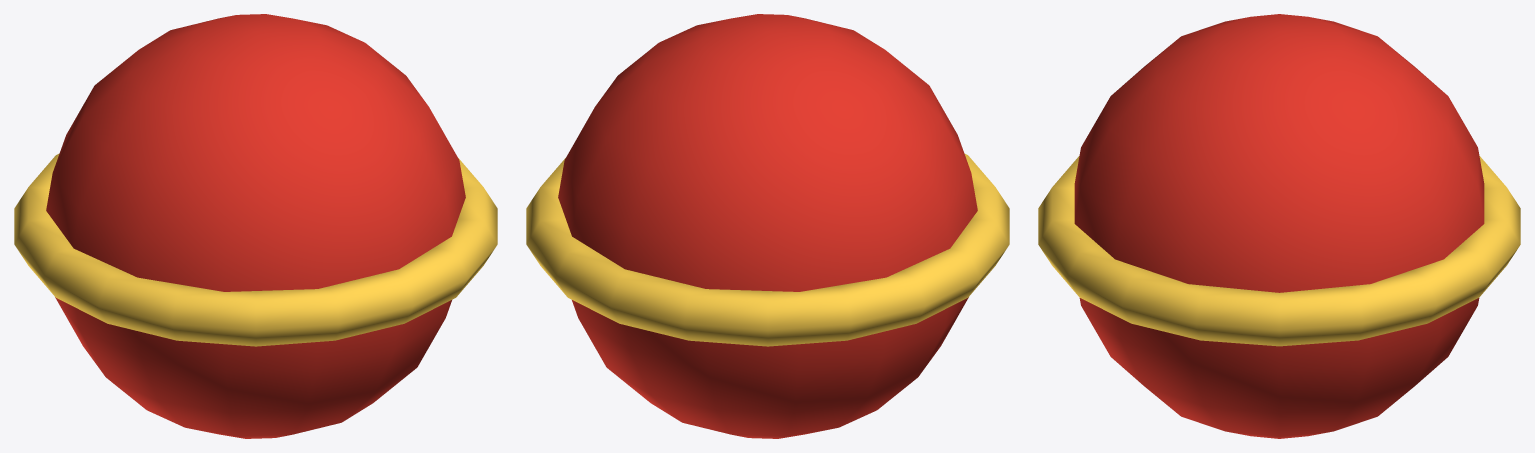
Rendered from prop_ball.fbx.
3 views of the same model, side by side, from view 1: azimuth 30°, elevation 25°; view 2: azimuth 150°, elevation 25°; view 3: azimuth 270°, elevation 25° (orthographic).
Visible parts, largest first — view 1: M__prop_ball; view 2: M__prop_ball; view 3: M__prop_ball.
Boxes of the visible parts, bbox=[...] form: M__prop_ball: bbox=[14, 14, 497, 438]; M__prop_ball: bbox=[526, 14, 1009, 438]; M__prop_ball: bbox=[1038, 14, 1520, 438].
Size of the model in its own units: 0.206 by 0.18 by 0.2029.
